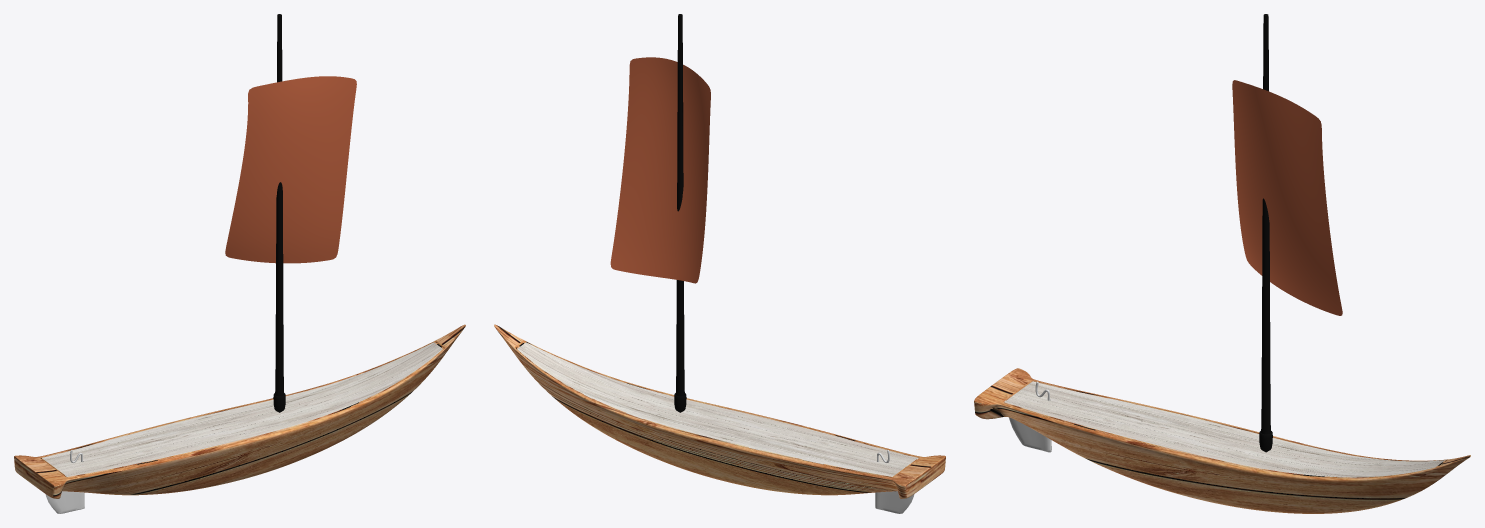
The model's file is boat.fbx.
3 views of the same model, side by side, from view 1: azimuth 30°, elevation 25°; view 2: azimuth 150°, elevation 25°; view 3: azimuth 330°, elevation 25° (orthographic). The views are drawn at different scales.
Visible parts, largest first — view 1: ship_main_body; view 2: ship_main_body; view 3: ship_main_body.
Part boxes in pixels (left/top/right/bottom): ship_main_body: left=14, top=14, right=465, bottom=513; ship_main_body: left=494, top=14, right=945, bottom=513; ship_main_body: left=974, top=14, right=1470, bottom=513.
Size of the model in its own units: 1845 by 1829 by 303.
